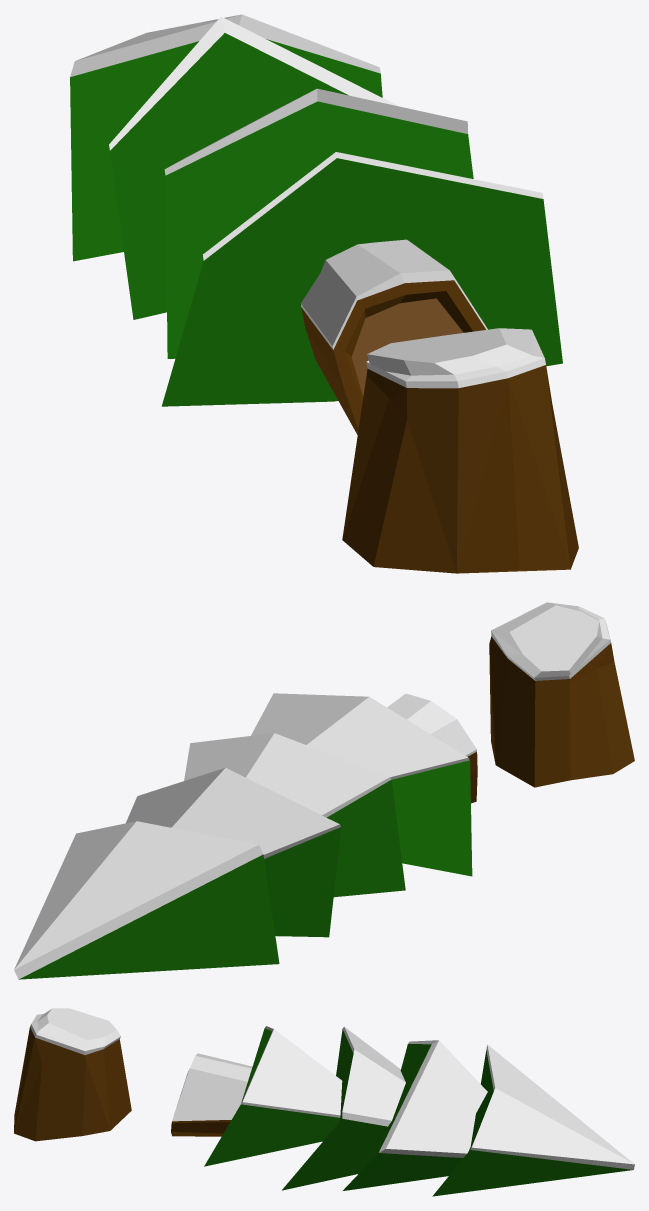
The model's file is Pine tree#7_Snow.fbx.
The picture shows the model from 3 angles, top to bottom: view 1: azimuth 30°, elevation 25°; view 2: azimuth 150°, elevation 25°; view 3: azimuth 270°, elevation 25°; orthographic projection. The views are drawn at different scales.
Parts seen in each view (by area): view 1: Pine tree#7_Snow; view 2: Pine tree#7_Snow; view 3: Pine tree#7_Snow.
Part boxes in pixels (bbox=[...]): Pine tree#7_Snow: bbox=[70, 14, 578, 573]; Pine tree#7_Snow: bbox=[14, 602, 634, 979]; Pine tree#7_Snow: bbox=[14, 1008, 634, 1196].
Size of the model in its own units: 582 by 330 by 1483.
